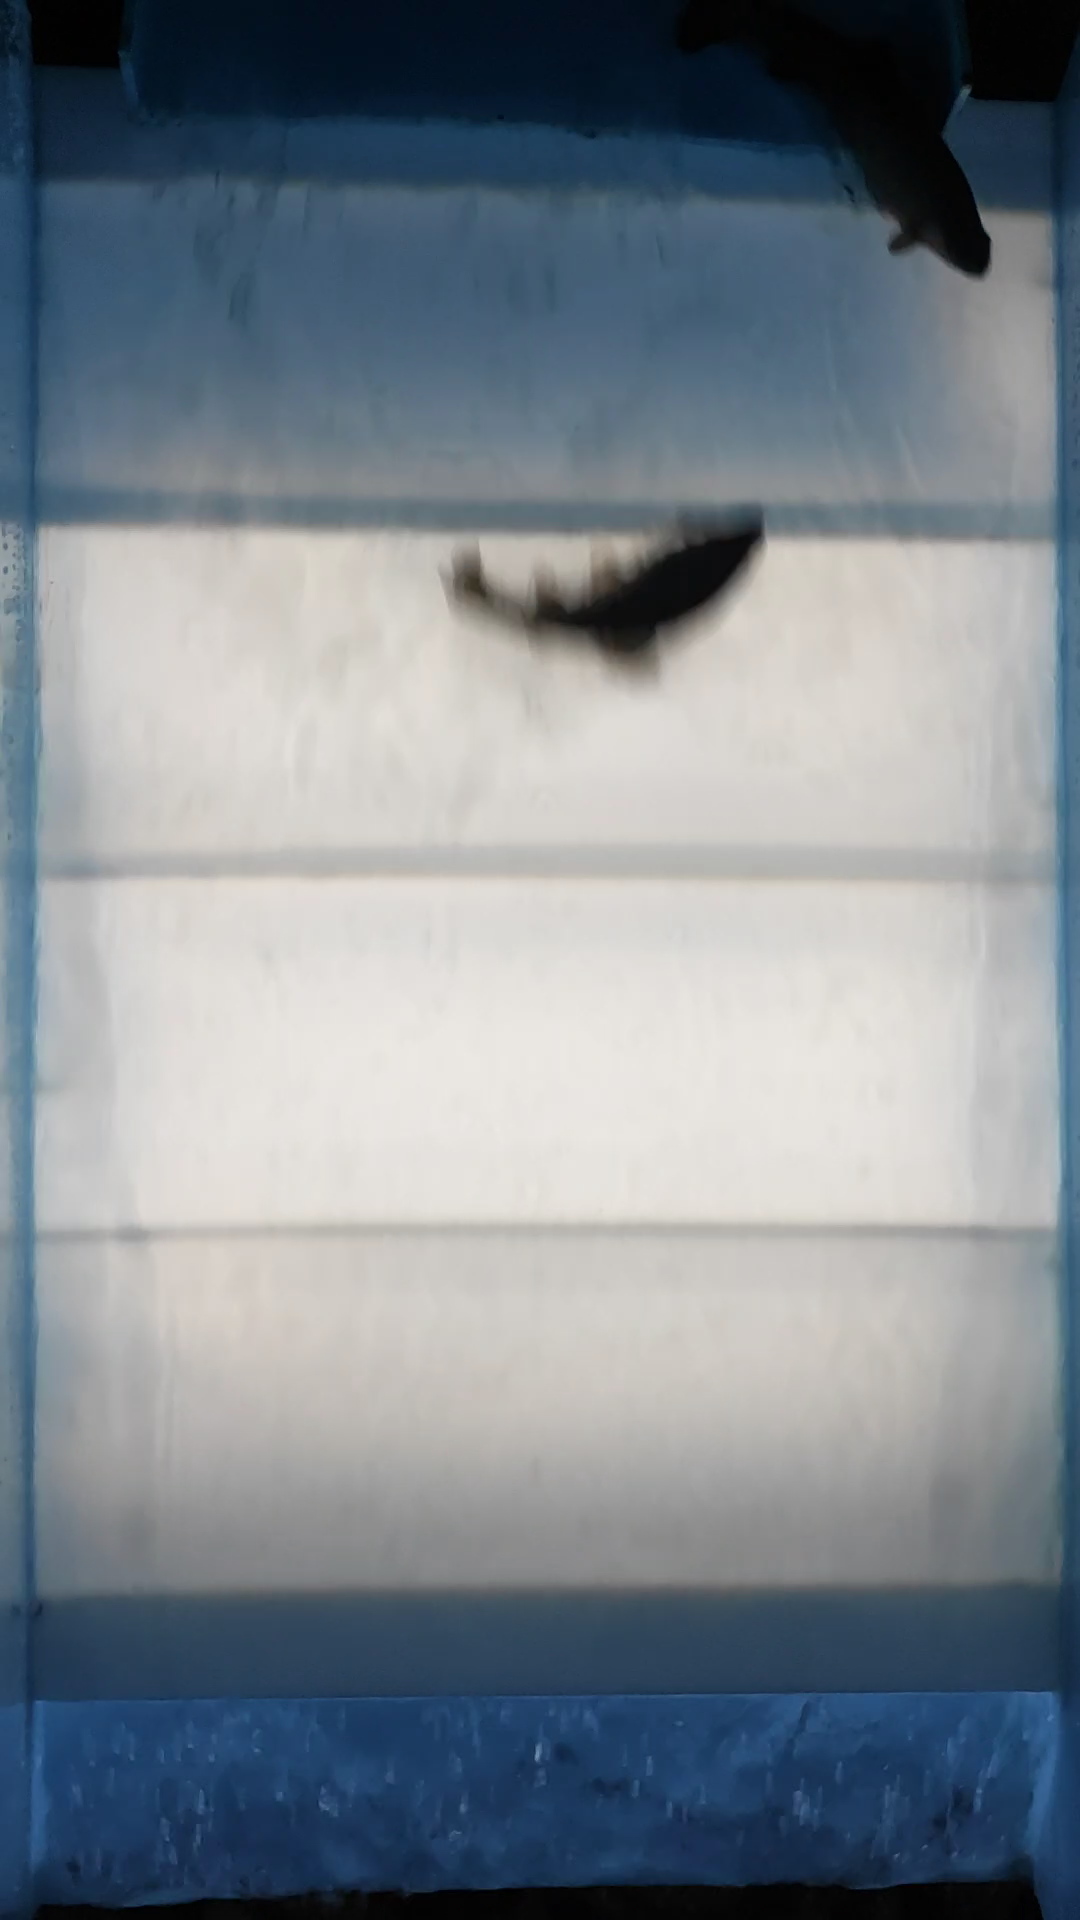fish: (436, 521, 764, 662)
